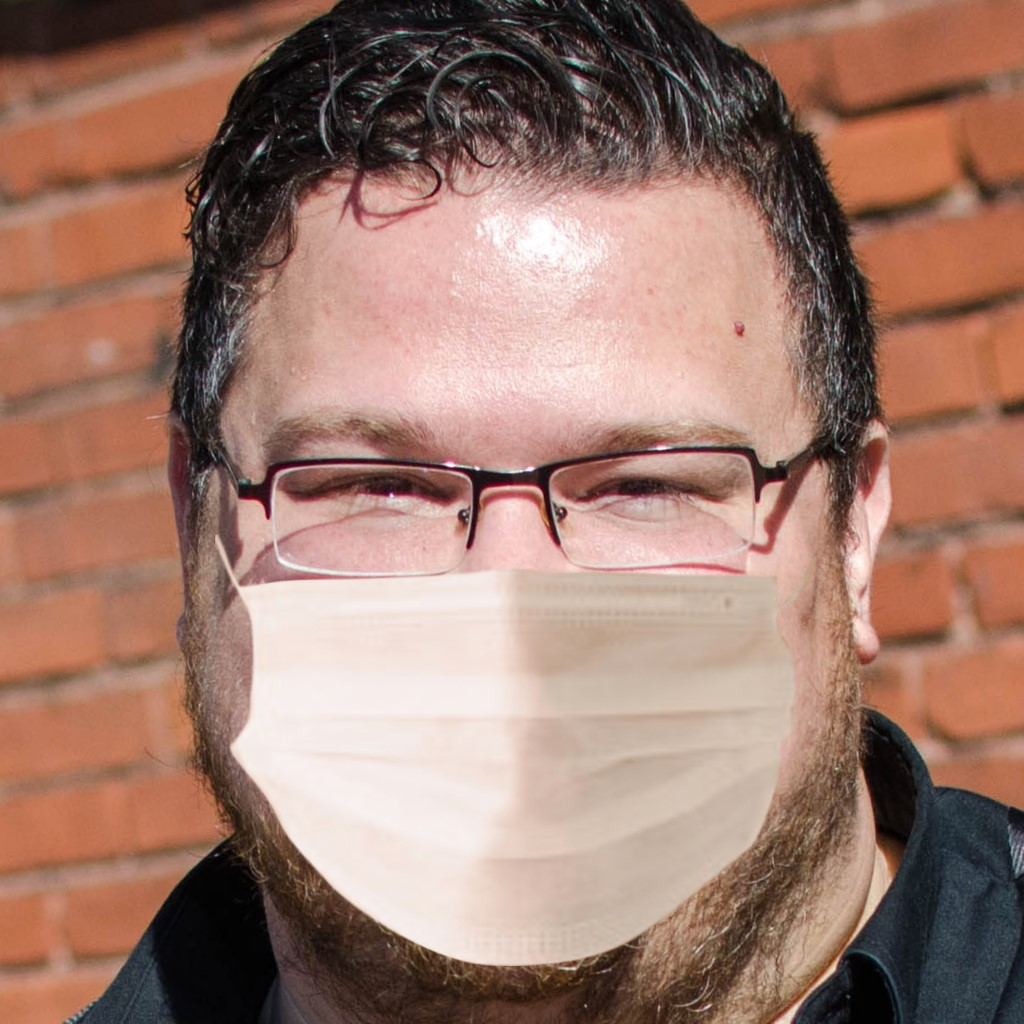con_mascara: (173, 87, 874, 974)
